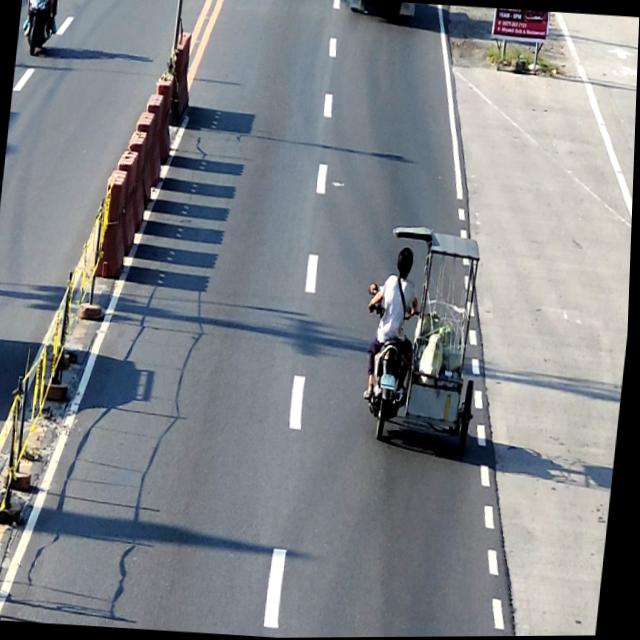License-Plate: (382, 374, 399, 390)
Motorcycle: (22, 0, 60, 58)
Tricycle: (354, 224, 495, 453)
